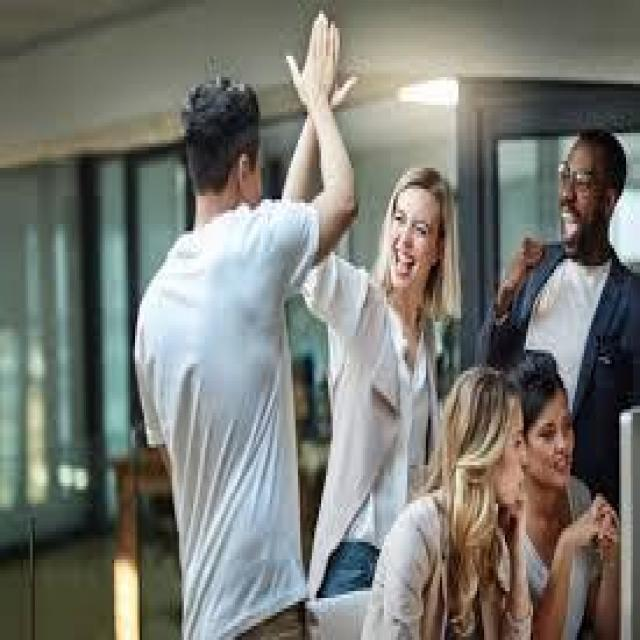person: (133, 11, 342, 636), (272, 14, 466, 584), (486, 70, 638, 451), (482, 290, 626, 636), (396, 328, 535, 636)
